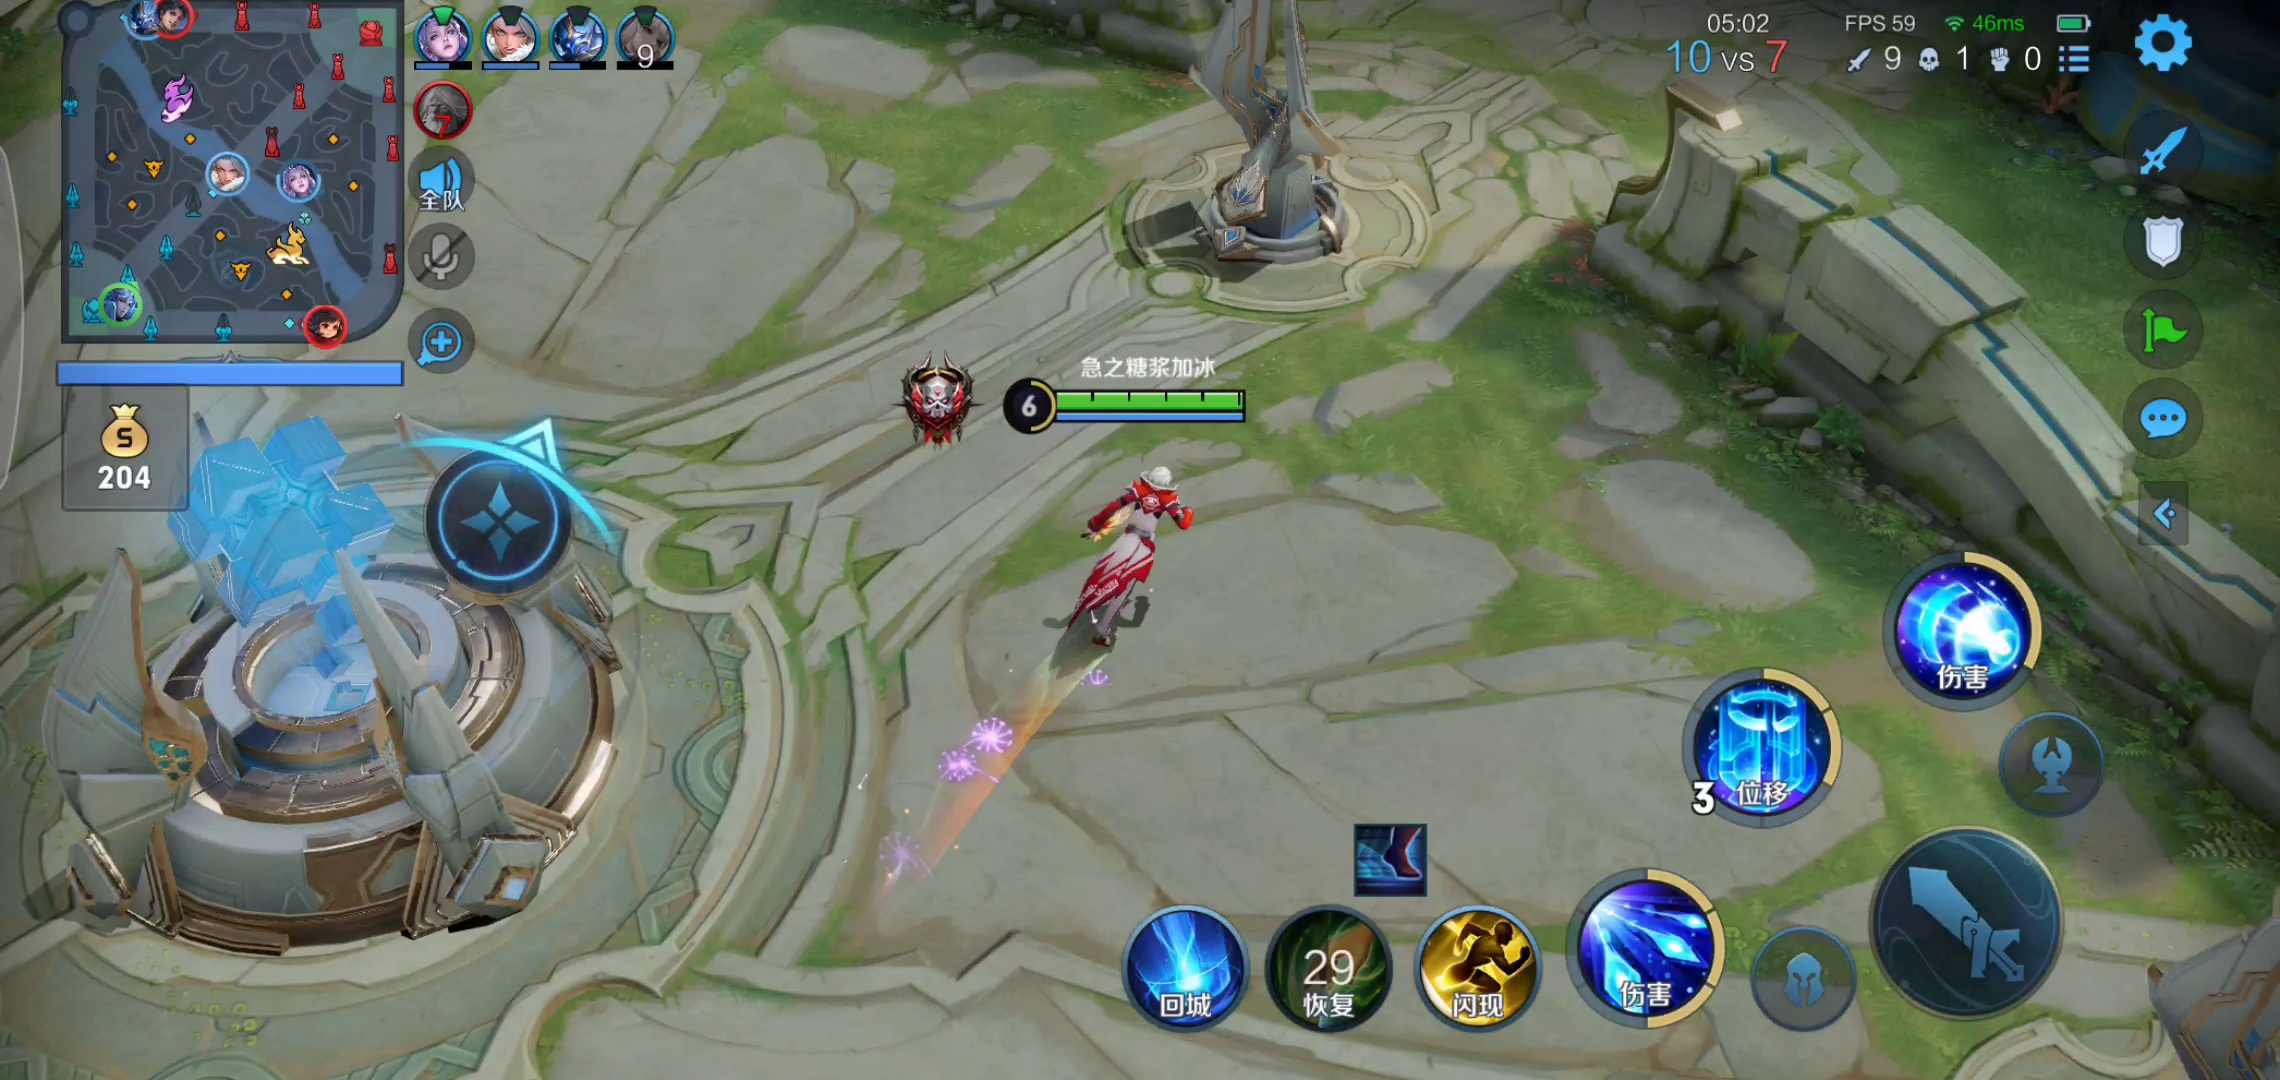crystal: (32, 438, 617, 943)
hero: (1040, 454, 1203, 650)
tower: (1160, 1, 1362, 281)
